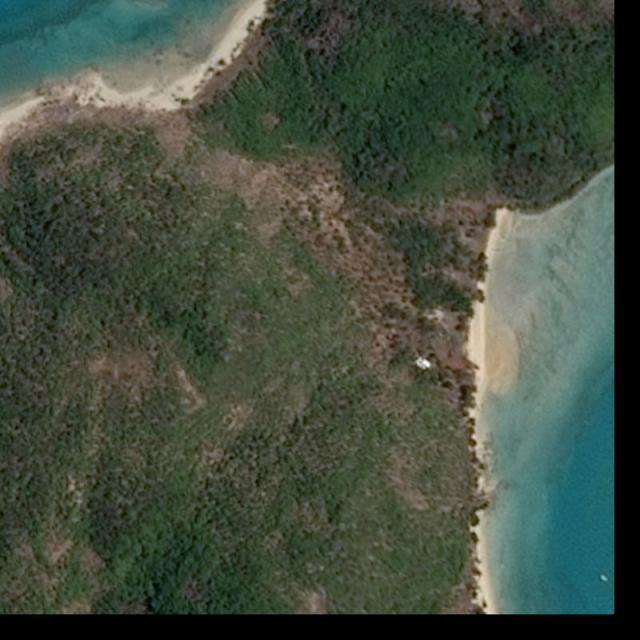ship: (599, 572, 609, 584)
